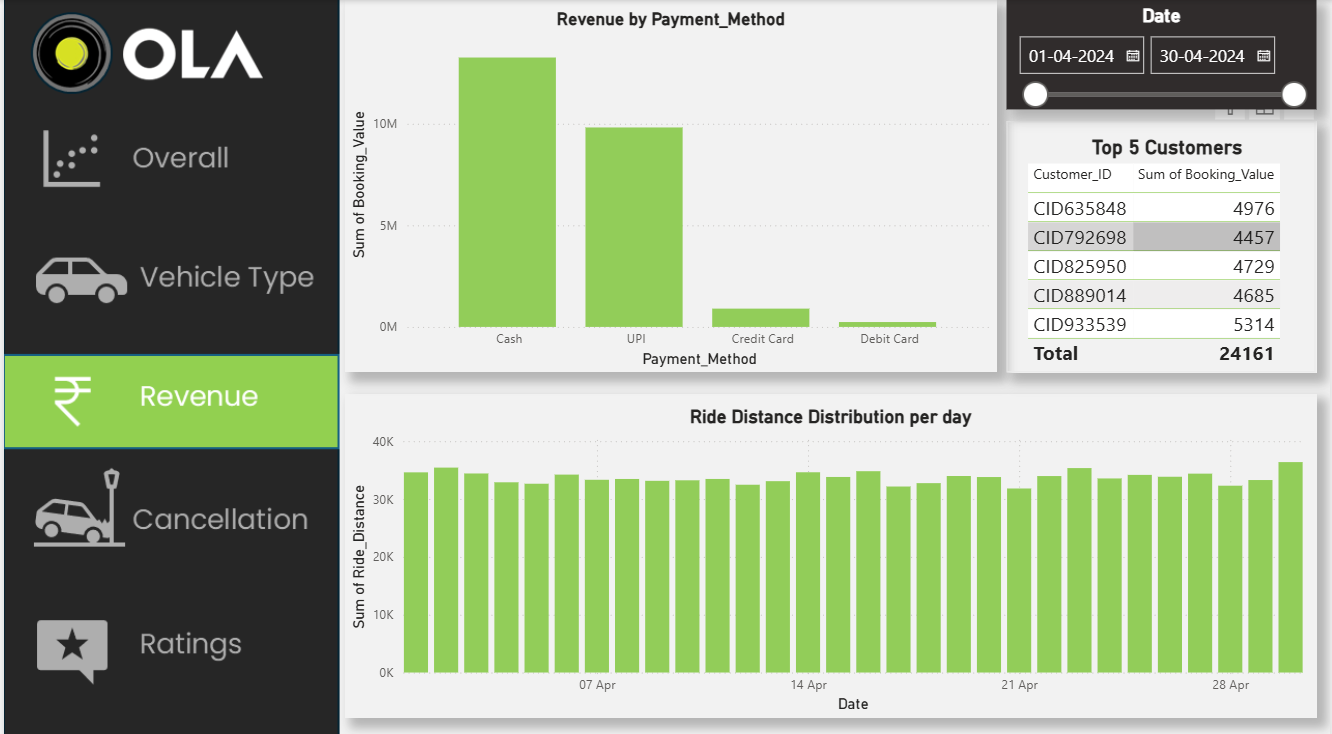

The dashboard page shown, as its layout file describes it:
{"tool":"powerbi","page":{"name":"Revenue","canvas":[1280,720],"ordinal":2},"visuals":[{"type":"actionButton","box":[0,106.2,319.7,92.9],"z":0},{"type":"actionButton","box":[0,219.6,319.7,92.9],"z":1000},{"type":"actionButton","box":[1.2,446.4,319.7,92.9],"z":2000},{"type":"actionButton","box":[2.4,576.7,319.7,92.9],"z":3000},{"type":"clusteredColumnChart","title":"Revenue by Payment_Method","fields":{"Category":["Bookings.Payment_Method"],"Y":["Sum(Bookings.Booking_Value)"]},"box":[329.3,0,628.5,359.5],"z":4000},{"type":"tableEx","title":"Top 5 Customers","fields":{"Values":["Bookings.Customer_ID","Sum(Bookings.Booking_Value)"]},"box":[967,117,299,243],"z":5000},{"type":"clusteredColumnChart","title":"Ride Distance Distribution per day","fields":{"Category":["Bookings.Date"],"Y":["Sum(Bookings.Ride_Distance)"]},"box":[329.3,380.1,937.2,312.9],"z":6000},{"type":"slicer","title":"Date","fields":{"Values":["Bookings.Date"]},"box":[967.4,0,299.1,105.7],"z":7000}]}

Visuals, with their boxes in screenshot pixels (x1, y1, x2, y2), scaled from the page's 1280x720 canvas onto the 1332x734 screenshot:
actionButton: box(0, 108, 333, 203)
actionButton: box(0, 224, 333, 319)
actionButton: box(1, 455, 334, 550)
actionButton: box(2, 588, 335, 683)
"Revenue by Payment_Method" clusteredColumnChart: box(343, 0, 997, 366)
"Top 5 Customers" tableEx: box(1006, 119, 1317, 367)
"Ride Distance Distribution per day" clusteredColumnChart: box(343, 387, 1318, 706)
"Date" slicer: box(1007, 0, 1318, 108)
